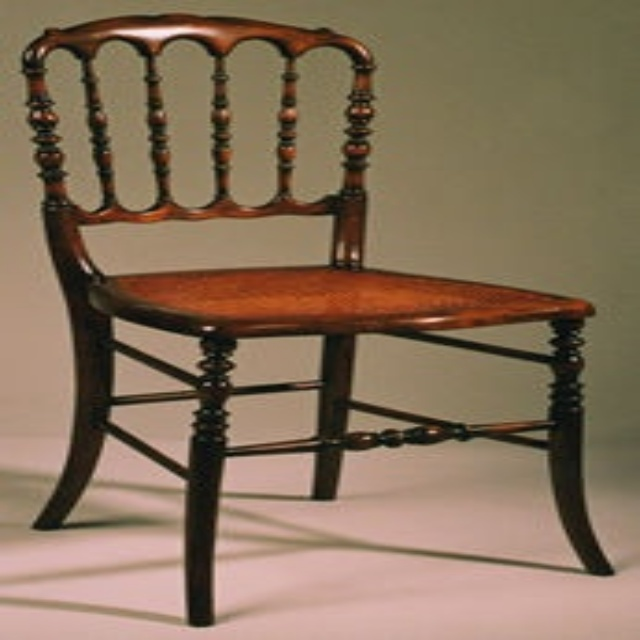obstacle: (22, 15, 610, 625)
